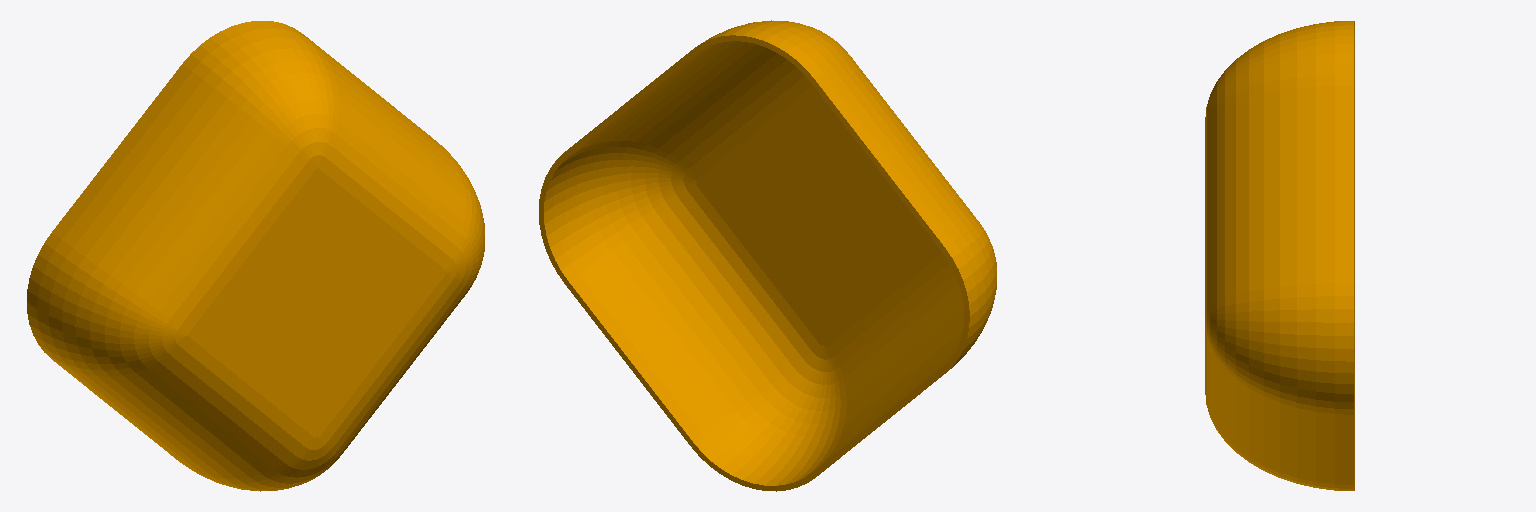
URDF robot description (indenter):
<robot name="indenter">
	<!-- <link name="world">
        </link>

        <joint name="world_to_indenter" type="prismatic">
                <parent link="world"/>
                <child link="indenter"/>
                <origin rpy="0.0 0.0 0.0" xyz="0.0 0.0 0.0"/>
                <axis xyz="0 1 0"/>
                <dynamics damping="0.0" friction="0.0"/>
                <limit lower="0.0" upper="0.4" velocity="1e9" effort="1e9"/>
        </joint> -->

	<link name="indenter">
		<visual>
			<origin rpy="0.0 0.0 0.0" xyz="0.0 0.0 0.0"/>
			<geometry>
				<mesh filename="../../meshes/target_objects/bowl_a_shapenet.obj"/>
			</geometry>
		</visual>
		<collision>
			<origin rpy="0.0 0.0 0.0" xyz="0.0 0.0 0.0"/>
			<geometry>
				<mesh filename="../../meshes/target_objects/bowl_a_shapenet.obj"/>
			</geometry>
		</collision>
		<inertial>
			<origin rpy="0.0 0.0 0.0" xyz="0.0 -8.64389e-3 0.0"/>
			<mass value="0.00224114"/>
			<inertia ixx="6.25553e-8" iyy="4.07645e-8" izz="6.25353e-8" ixy="0.0" ixz="4.69820e-15" iyz="0.0"/>
		</inertial>
	</link>
</robot>

--- What the picture shows (computed from the rendered views, not written in the file) ---
The picture shows the robot from 3 angles, left to right: view 1: azimuth 30°, elevation 25°; view 2: azimuth 150°, elevation 25°; view 3: azimuth 270°, elevation 25°; orthographic projection.
Robot: indenter — 1 links, 0 joints (none); root link indenter; default pose: every joint at zero.
Visible links, largest first — view 1: indenter; view 2: indenter; view 3: indenter.
Link boxes in pixels (x1,y1,x2,y2): indenter: (27, 21, 484, 491); indenter: (539, 20, 996, 491); indenter: (1205, 21, 1354, 490).
Bounding box of the posed robot: 0.2267 × 0.0679 × 0.2267 m (x, y, z).
Meshes: 1 distinct files referenced, 1 mesh visuals loaded (1 OBJ).